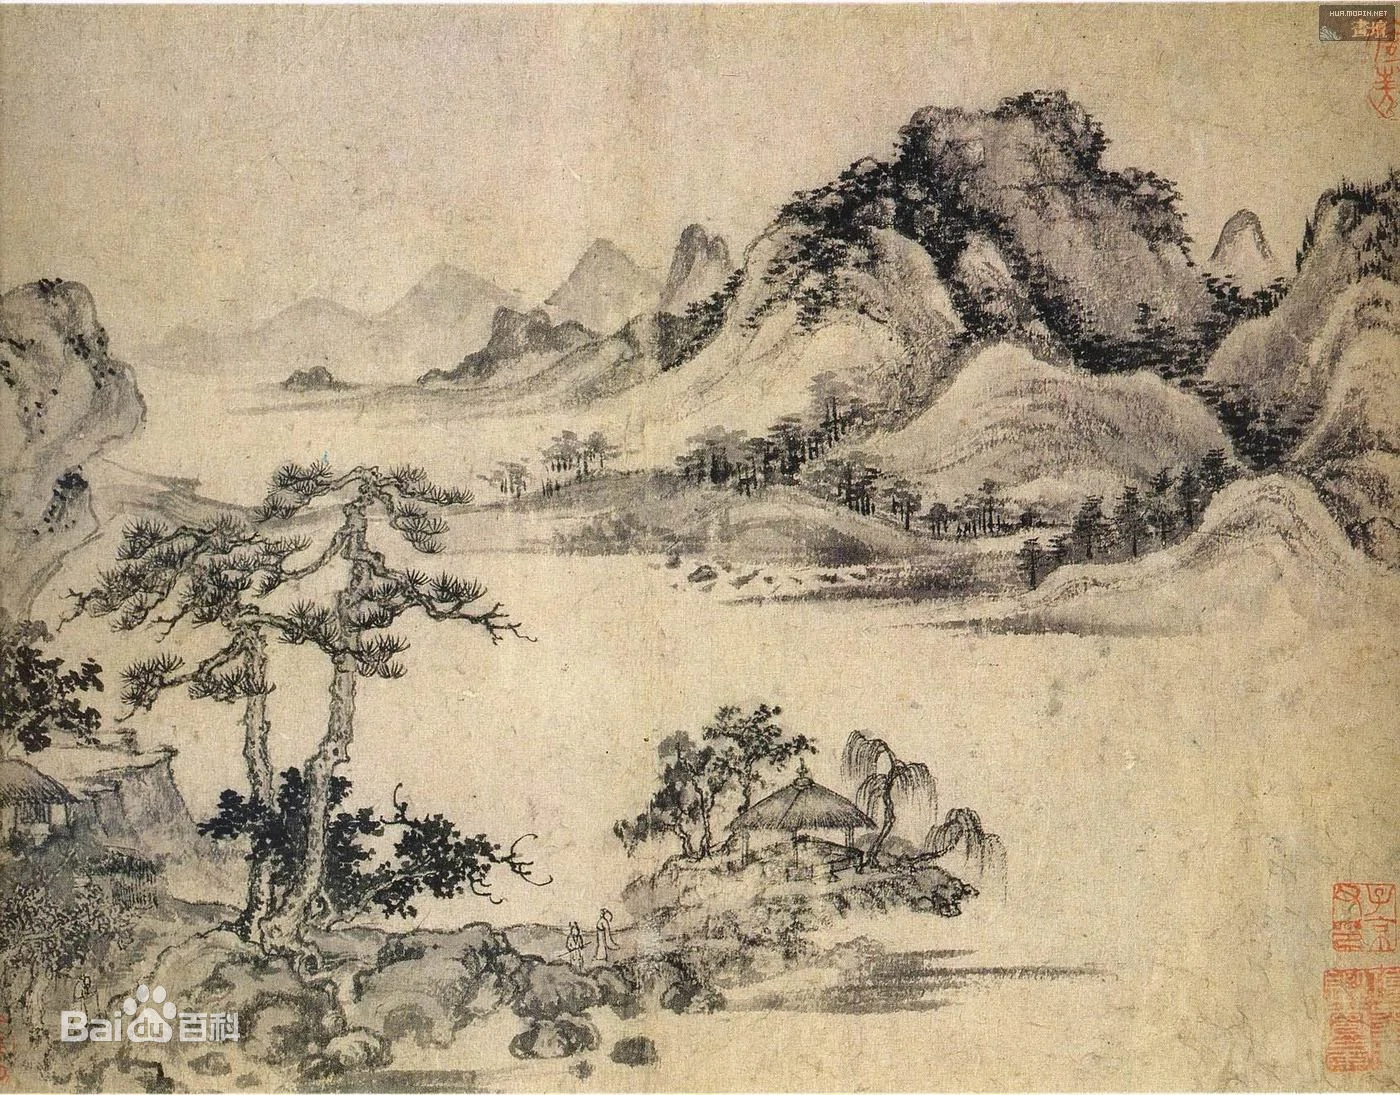booth: (729, 757, 892, 904), (2, 753, 81, 879)
man: (588, 904, 625, 984), (560, 911, 595, 976)
mountain: (691, 72, 1229, 522), (1222, 171, 1400, 439), (1064, 457, 1384, 599)
pine: (94, 458, 556, 943)
range: (157, 233, 663, 375)
tree: (630, 687, 794, 889), (829, 460, 1042, 546)
willow: (840, 711, 1014, 899)
